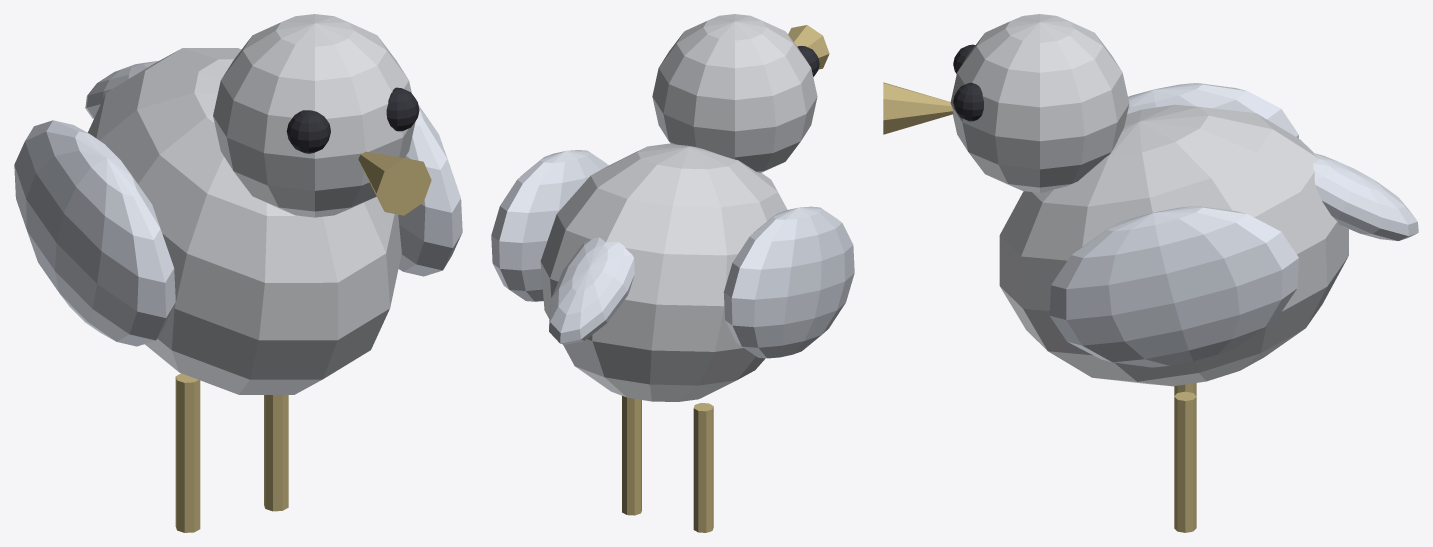
File: creature_bird_white.glb
3 renders of one model, left to right at view 1: azimuth 30°, elevation 25°; view 2: azimuth 150°, elevation 25°; view 3: azimuth 270°, elevation 25°, orthographic. The views are drawn at different scales.
Parts seen in each view (by area): view 1: creature_bird_white; view 2: creature_bird_white; view 3: creature_bird_white.
Part boxes in pixels (box(x1,y1,x2,y2)): creature_bird_white: box(14, 14, 462, 532); creature_bird_white: box(491, 14, 854, 532); creature_bird_white: box(883, 14, 1418, 532).
Size of the model in its own units: 0.5546 by 0.8067 by 0.8041.
